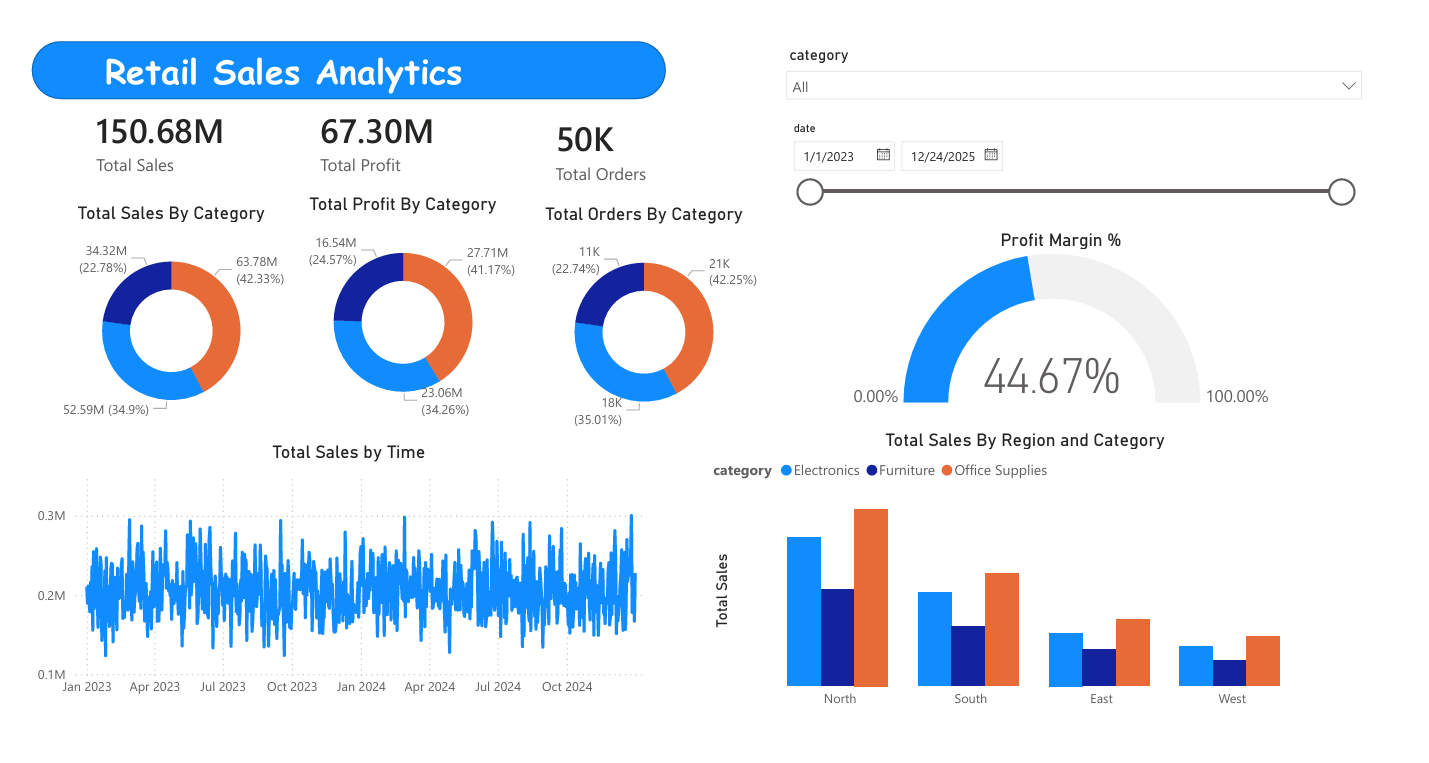

Layout of this report page (visuals, bound fields, positions):
{"tool":"powerbi","page":{"name":"category sales","canvas":[1280,720],"ordinal":0},"visuals":[{"type":"cardVisual","fields":{"Data":["measures (2).Total Profit"]},"box":[244,52,200,100],"z":1000},{"type":"lineChart","title":"Total Sales by Time","fields":{"Y":["measures (2).Total Sales"],"Category":["calendar.date.Variation.Date Hierarchy.Year","calendar.date.Variation.Date Hierarchy.Quarter","calendar.date.Variation.Date Hierarchy.Month","calendar.date.Variation.Date Hierarchy.Day"]},"box":[0,386.7,600,250.7],"z":3000},{"type":"clusteredColumnChart","title":"Total Sales By Region and Category","fields":{"Y":["measures (2).Total Sales"],"Category":["regions.region_name"],"Series":["products.category"]},"box":[640,374.7,600,273.3],"z":4000},{"type":"donutChart","title":"Total Sales By Category","fields":{"Y":["measures (2).Total Sales"],"Category":["products.category"]},"box":[20,160,224,225.3],"z":5000},{"type":"donutChart","title":"Total Profit By Category","fields":{"Y":["measures (2).Total Profit"],"Category":["products.category"]},"box":[238.7,152,225.3,225.3],"z":6000},{"type":"donutChart","title":"Total Orders By Category","fields":{"Y":["measures (2).Total Orders"],"Category":["products.category"]},"box":[466.7,161.3,225.3,225.3],"z":7000},{"type":"gauge","fields":{"Y":["measures (2).Profit Margin %"]},"box":[708,185.3,532,174.7],"z":8000},{"type":"cardVisual","fields":{"Data":["measures (2).Total Sales"]},"box":[32,52,200,100],"z":9000},{"type":"cardVisual","fields":{"Data":["measures (2).Total Orders"]},"box":[466.7,60,200,100],"z":9500},{"type":"shape","box":[0,8,600,54.7],"z":9501},{"type":"textbox","box":[0,8,477.3,54.7],"z":9502},{"type":"slicer","fields":{"Values":["calendar.date"]},"box":[708,78.7,556,102.7],"z":9503},{"type":"slicer","fields":{"Values":["products.category"]},"box":[704,8,565.3,70.7],"z":9504}]}

Visuals, with their boxes on the page's 1280x720 design canvas (x1, y1, x2, y2). These are canvas units, not pixel positions in the 1429x763 screenshot, which may show the page scaled, cropped or inside an application window:
cardVisual - measures (2).Total Profit: <bbox>244, 52, 444, 152</bbox>
"Total Sales by Time" lineChart: <bbox>0, 387, 600, 637</bbox>
"Total Sales By Region and Category" clusteredColumnChart: <bbox>640, 375, 1240, 648</bbox>
"Total Sales By Category" donutChart: <bbox>20, 160, 244, 385</bbox>
"Total Profit By Category" donutChart: <bbox>239, 152, 464, 377</bbox>
"Total Orders By Category" donutChart: <bbox>467, 161, 692, 387</bbox>
gauge - measures (2).Profit Margin %: <bbox>708, 185, 1240, 360</bbox>
cardVisual - measures (2).Total Sales: <bbox>32, 52, 232, 152</bbox>
cardVisual - measures (2).Total Orders: <bbox>467, 60, 667, 160</bbox>
shape: <bbox>0, 8, 600, 63</bbox>
textbox: <bbox>0, 8, 477, 63</bbox>
slicer - calendar.date: <bbox>708, 79, 1264, 181</bbox>
slicer - products.category: <bbox>704, 8, 1269, 79</bbox>
